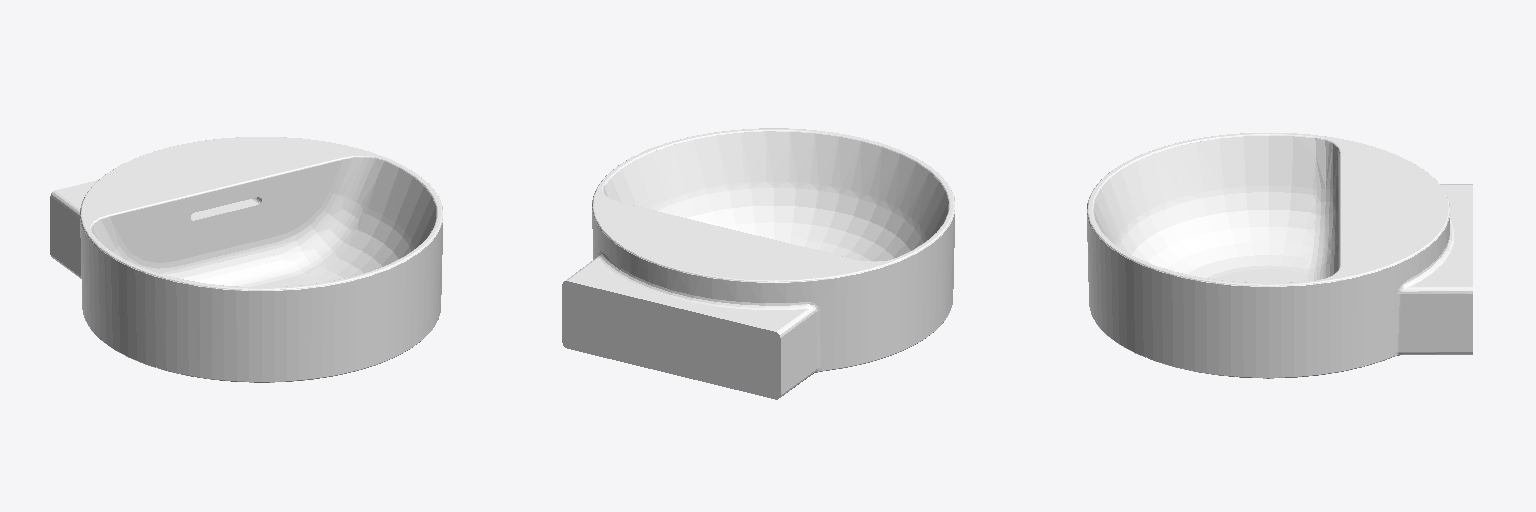
File: Waschkeramik.obj
3 renders of one model, left to right at view 1: azimuth 30°, elevation 25°; view 2: azimuth 150°, elevation 25°; view 3: azimuth 270°, elevation 25°, orthographic.
Visible parts, largest first — view 1: Mesh1 G_13_V3_Waschkeramik_dwg1 Model; view 2: Mesh1 G_13_V3_Waschkeramik_dwg1 Model; view 3: Mesh1 G_13_V3_Waschkeramik_dwg1 Model.
Boxes of the visible parts, box(x1,y1,x2,y2) form: Mesh1 G_13_V3_Waschkeramik_dwg1 Model: box(50, 137, 442, 382); Mesh1 G_13_V3_Waschkeramik_dwg1 Model: box(562, 128, 954, 399); Mesh1 G_13_V3_Waschkeramik_dwg1 Model: box(1087, 133, 1472, 378).
Size of the model in its own units: 38.96 by 11.2 by 41.4.